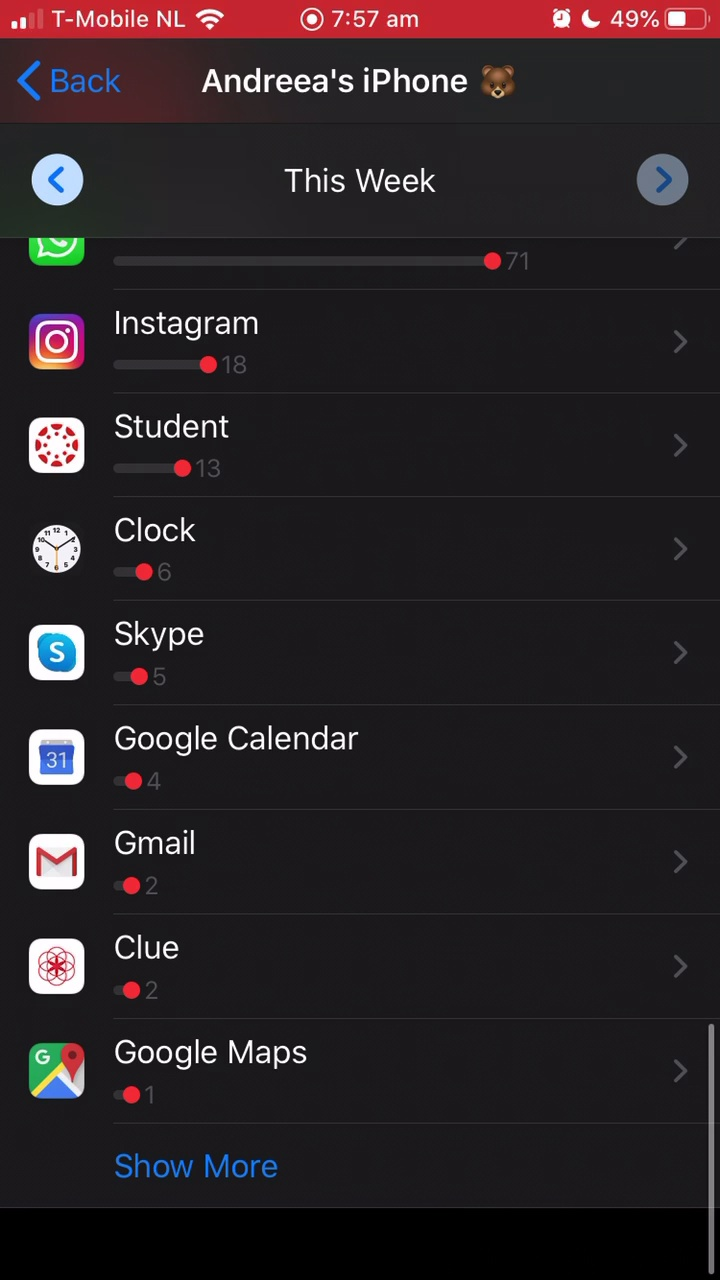not_app: (12, 716, 381, 816), (18, 1024, 340, 1114), (14, 295, 299, 387), (15, 403, 254, 497), (15, 601, 250, 696), (17, 916, 226, 1011), (14, 505, 240, 591), (1, 821, 238, 901)
week: (275, 160, 452, 201)
